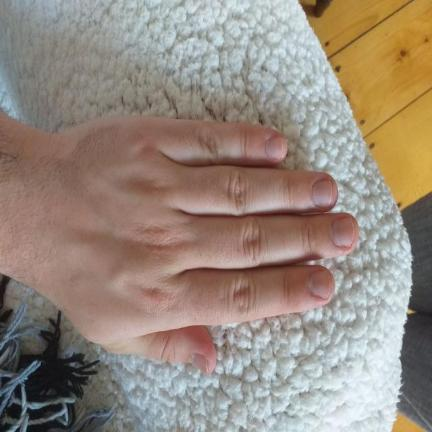Nail: (331, 216, 358, 248), (309, 269, 334, 297), (312, 179, 333, 208), (265, 135, 287, 162), (193, 353, 212, 373)
